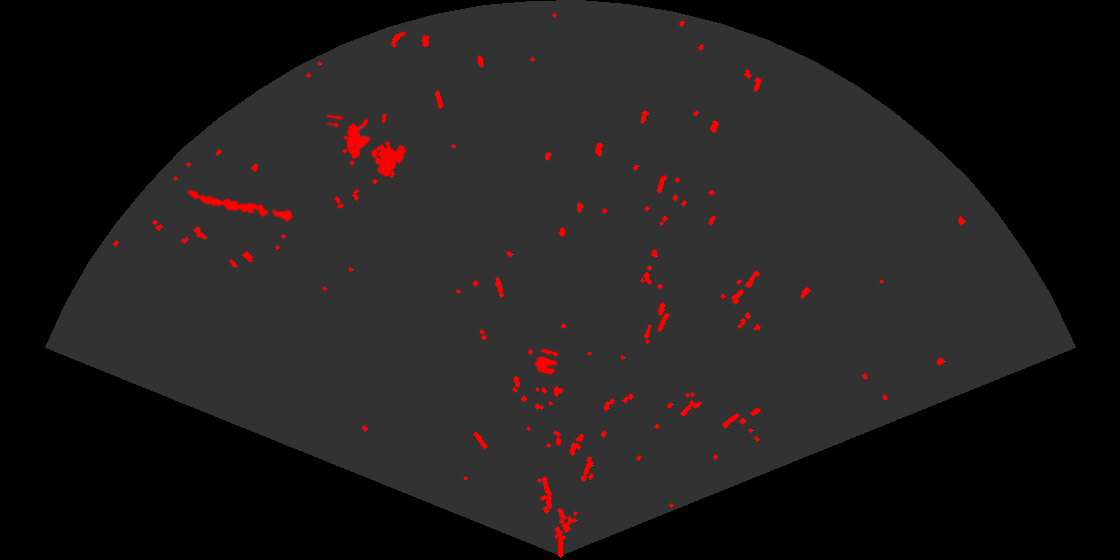ball: (532, 347, 560, 376)
cage: (327, 114, 408, 178)
chain: (186, 188, 295, 224)
